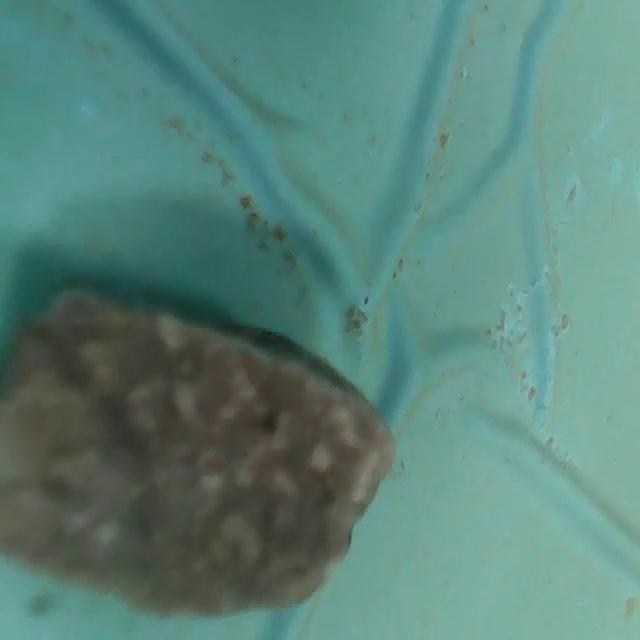rock: (0, 287, 405, 622)
